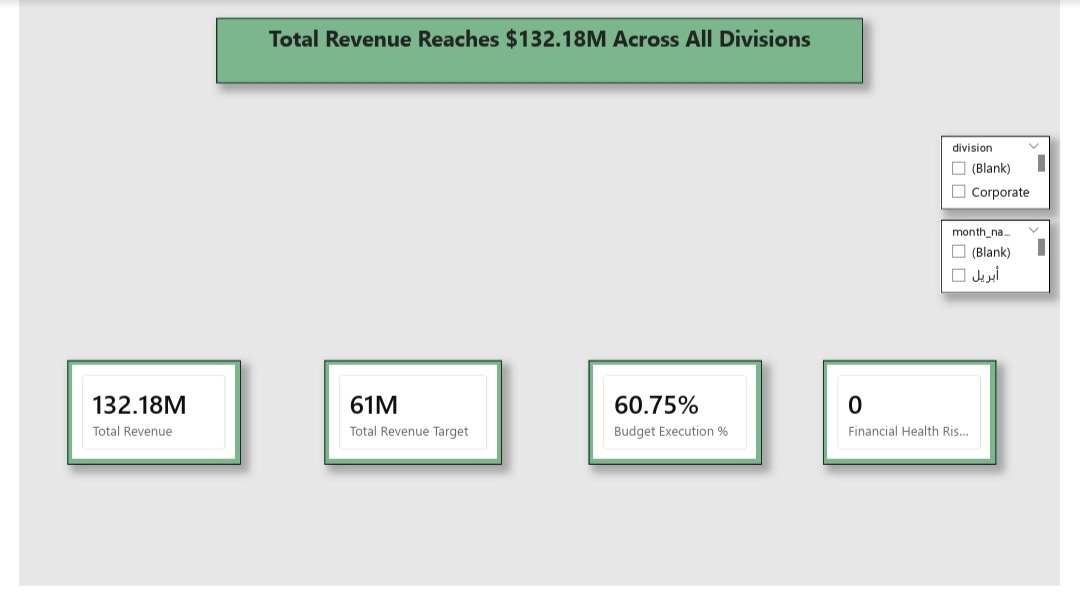

The dashboard page shown, as its layout file describes it:
{"tool":"powerbi","page":{"name":"Executive Overview","canvas":[1280,720],"ordinal":0},"visuals":[{"type":"textbox","box":[241.5,22,795.9,79.6],"z":0},{"type":"cardVisual","fields":{"Data":["key measures.Total Revenue"]},"box":[59,443.2,212.7,127.6],"z":1},{"type":"cardVisual","fields":{"Data":["key measures.Total Revenue Target"]},"box":[374.6,443.2,218.2,127.6],"z":2},{"type":"cardVisual","fields":{"Data":["key measures.Budget Execution %"]},"box":[699.8,443.2,212.7,127.6],"z":3},{"type":"cardVisual","fields":{"Data":["key measures.Financial Health Risk Count"]},"box":[988,443.2,212.7,127.6],"z":4},{"type":"slicer","fields":{"Values":["calendar.month_name"]},"box":[1133.5,270.3,133.1,89.2],"z":5},{"type":"slicer","fields":{"Values":["departments.division"]},"box":[1133.5,167.4,133.1,89.2],"z":6}]}

Visuals, with their boxes in screenshot pixels (x1, y1, x2, y2), scaled from the page's 1280x720 canvas onto the 1080x600 screenshot:
textbox: 204,18,875,85
cardVisual - key measures.Total Revenue: 50,369,229,476
cardVisual - key measures.Total Revenue Target: 316,369,500,476
cardVisual - key measures.Budget Execution %: 590,369,770,476
cardVisual - key measures.Financial Health Risk Count: 834,369,1013,476
slicer - calendar.month_name: 956,225,1069,300
slicer - departments.division: 956,140,1069,214
